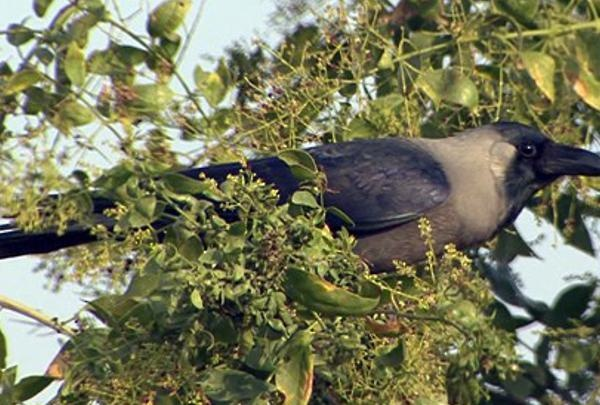crow: (17, 120, 594, 273)
